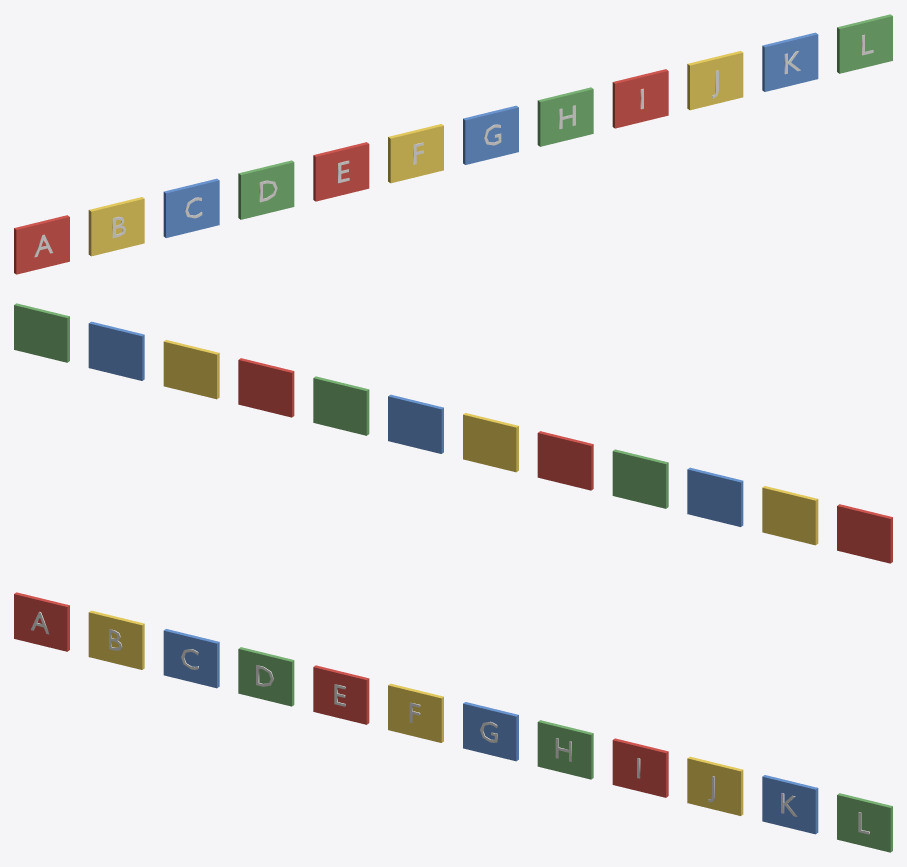
Rendered from classroom_alphabet.glb.
3 views of the same model, one above another, from view 1: azimuth 30°, elevation 25°; view 2: azimuth 150°, elevation 25°; view 3: azimuth 330°, elevation 25° (orthographic).
Visible parts, largest first — view 1: classroom_alphabet; view 2: classroom_alphabet; view 3: classroom_alphabet.
Boxes of the visible parts, left/top/right/bottom form: classroom_alphabet: left=14, top=14, right=892, bottom=274; classroom_alphabet: left=14, top=303, right=892, bottom=563; classroom_alphabet: left=14, top=592, right=892, bottom=852.
Bounding box in the file's own units: 8.2 × 0.4 × 0.054.
